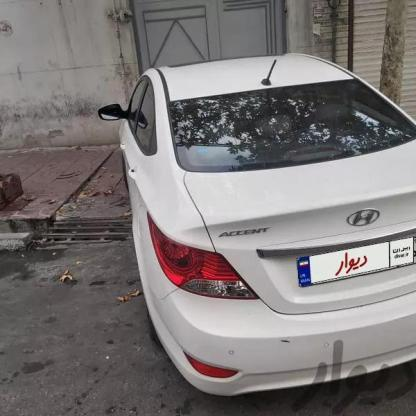Car: (111, 52, 416, 404)
